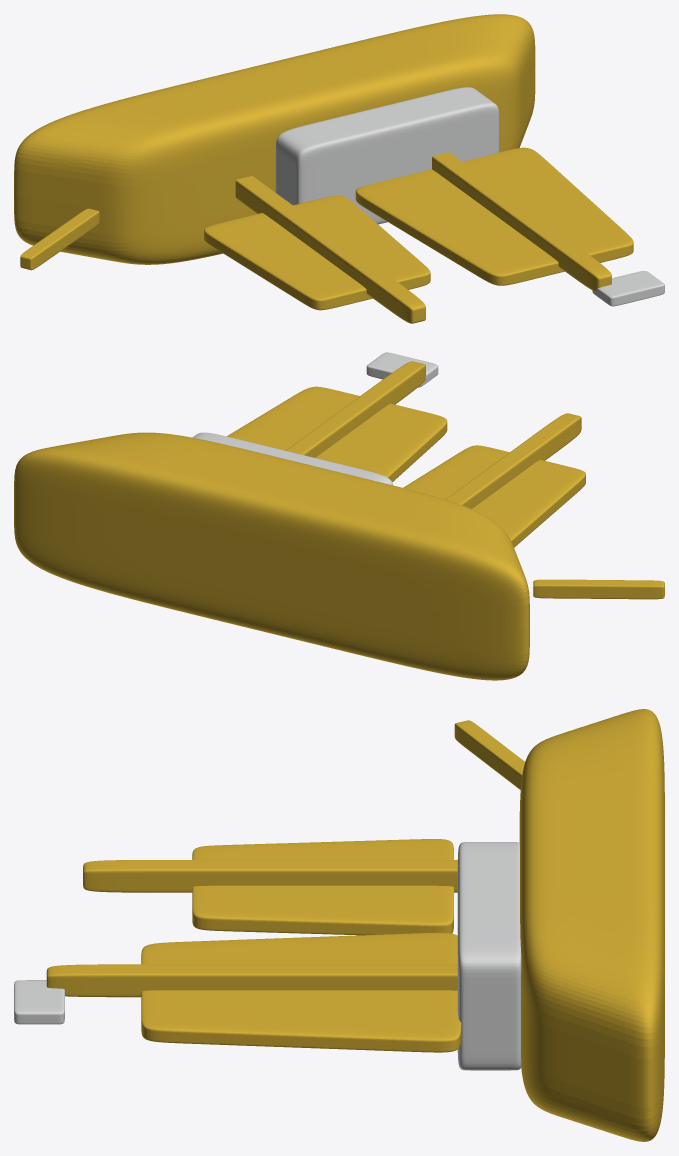
Rendered from pirate_ship_sq.glb.
The picture shows the model from 3 angles, top to bottom: view 1: azimuth 30°, elevation 25°; view 2: azimuth 150°, elevation 25°; view 3: azimuth 270°, elevation 25°; orthographic projection. The views are drawn at different scales.
Parts seen in each view (by area): view 1: superquadric_0, superquadric_5, superquadric_1, superquadric_4, superquadric_2, superquadric_3, superquadric_6, superquadric_7; view 2: superquadric_0, superquadric_5, superquadric_4, superquadric_3, superquadric_2, superquadric_6, superquadric_1, superquadric_7; view 3: superquadric_0, superquadric_5, superquadric_4, superquadric_1, superquadric_3, superquadric_2, superquadric_7, superquadric_6.
Boxes of the visible parts, x1,y1,x2,y2 form: superquadric_0: (14, 14, 535, 264); superquadric_5: (355, 147, 633, 285); superquadric_1: (275, 87, 499, 224); superquadric_4: (204, 195, 430, 310); superquadric_2: (235, 176, 425, 323); superquadric_3: (432, 152, 611, 291); superquadric_6: (20, 208, 99, 270); superquadric_7: (592, 271, 664, 306); superquadric_0: (14, 432, 529, 680); superquadric_5: (227, 386, 447, 481); superquadric_4: (403, 445, 585, 547); superquadric_3: (286, 361, 425, 457); superquadric_2: (445, 413, 581, 508); superquadric_6: (533, 579, 664, 599); superquadric_1: (192, 432, 393, 485); superquadric_7: (366, 352, 438, 387); superquadric_0: (519, 709, 664, 1141); superquadric_5: (141, 932, 461, 1052); superquadric_4: (192, 839, 453, 935); superquadric_1: (457, 842, 521, 1070); superquadric_3: (46, 964, 457, 997); superquadric_2: (83, 860, 457, 892); superquadric_7: (14, 980, 64, 1024); superquadric_6: (454, 720, 524, 789).
Bounding box in the file's own units: 1 × 0.2244 × 0.7724.
